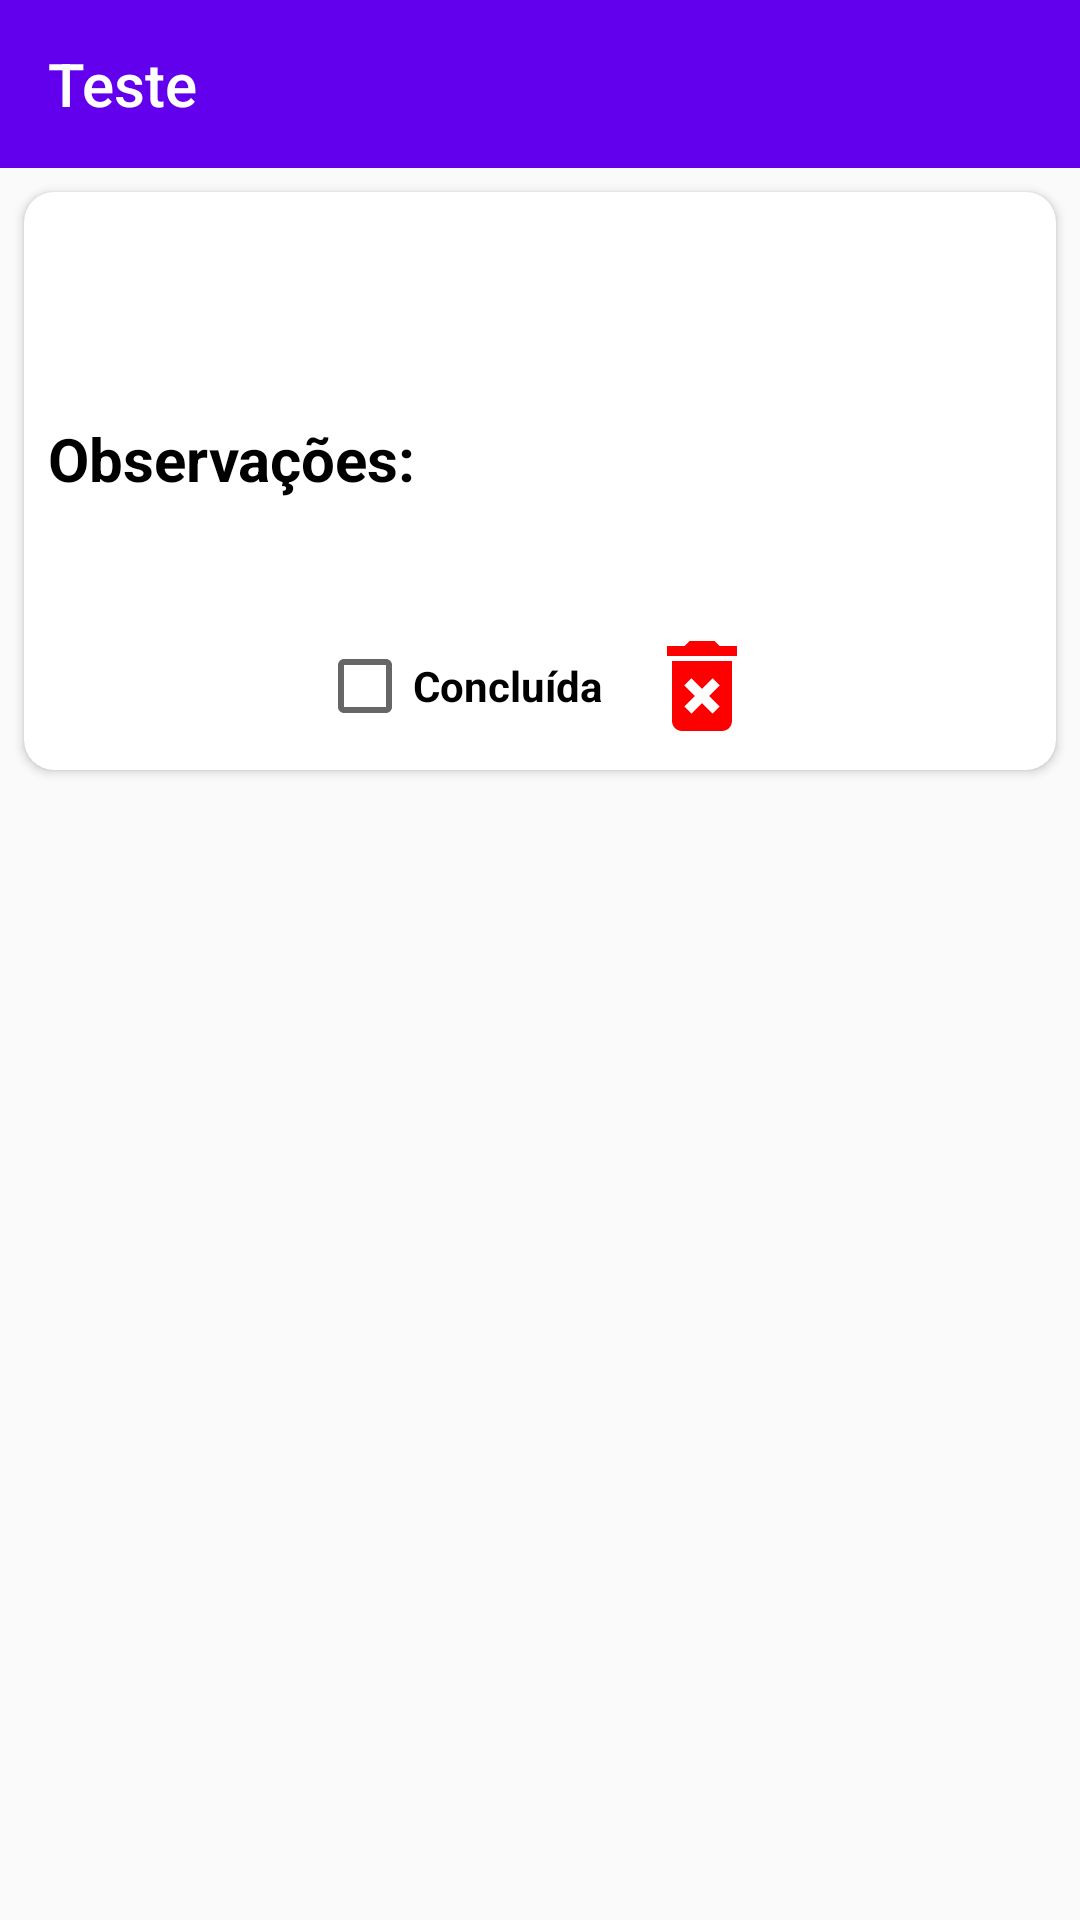

Screen size 1080px×1920px. Icon name, then its center in pixels as (x,y):
Excluir tarefa: (702,686)
